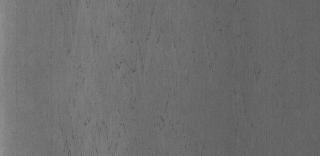silk spot: (86, 18, 194, 130)
